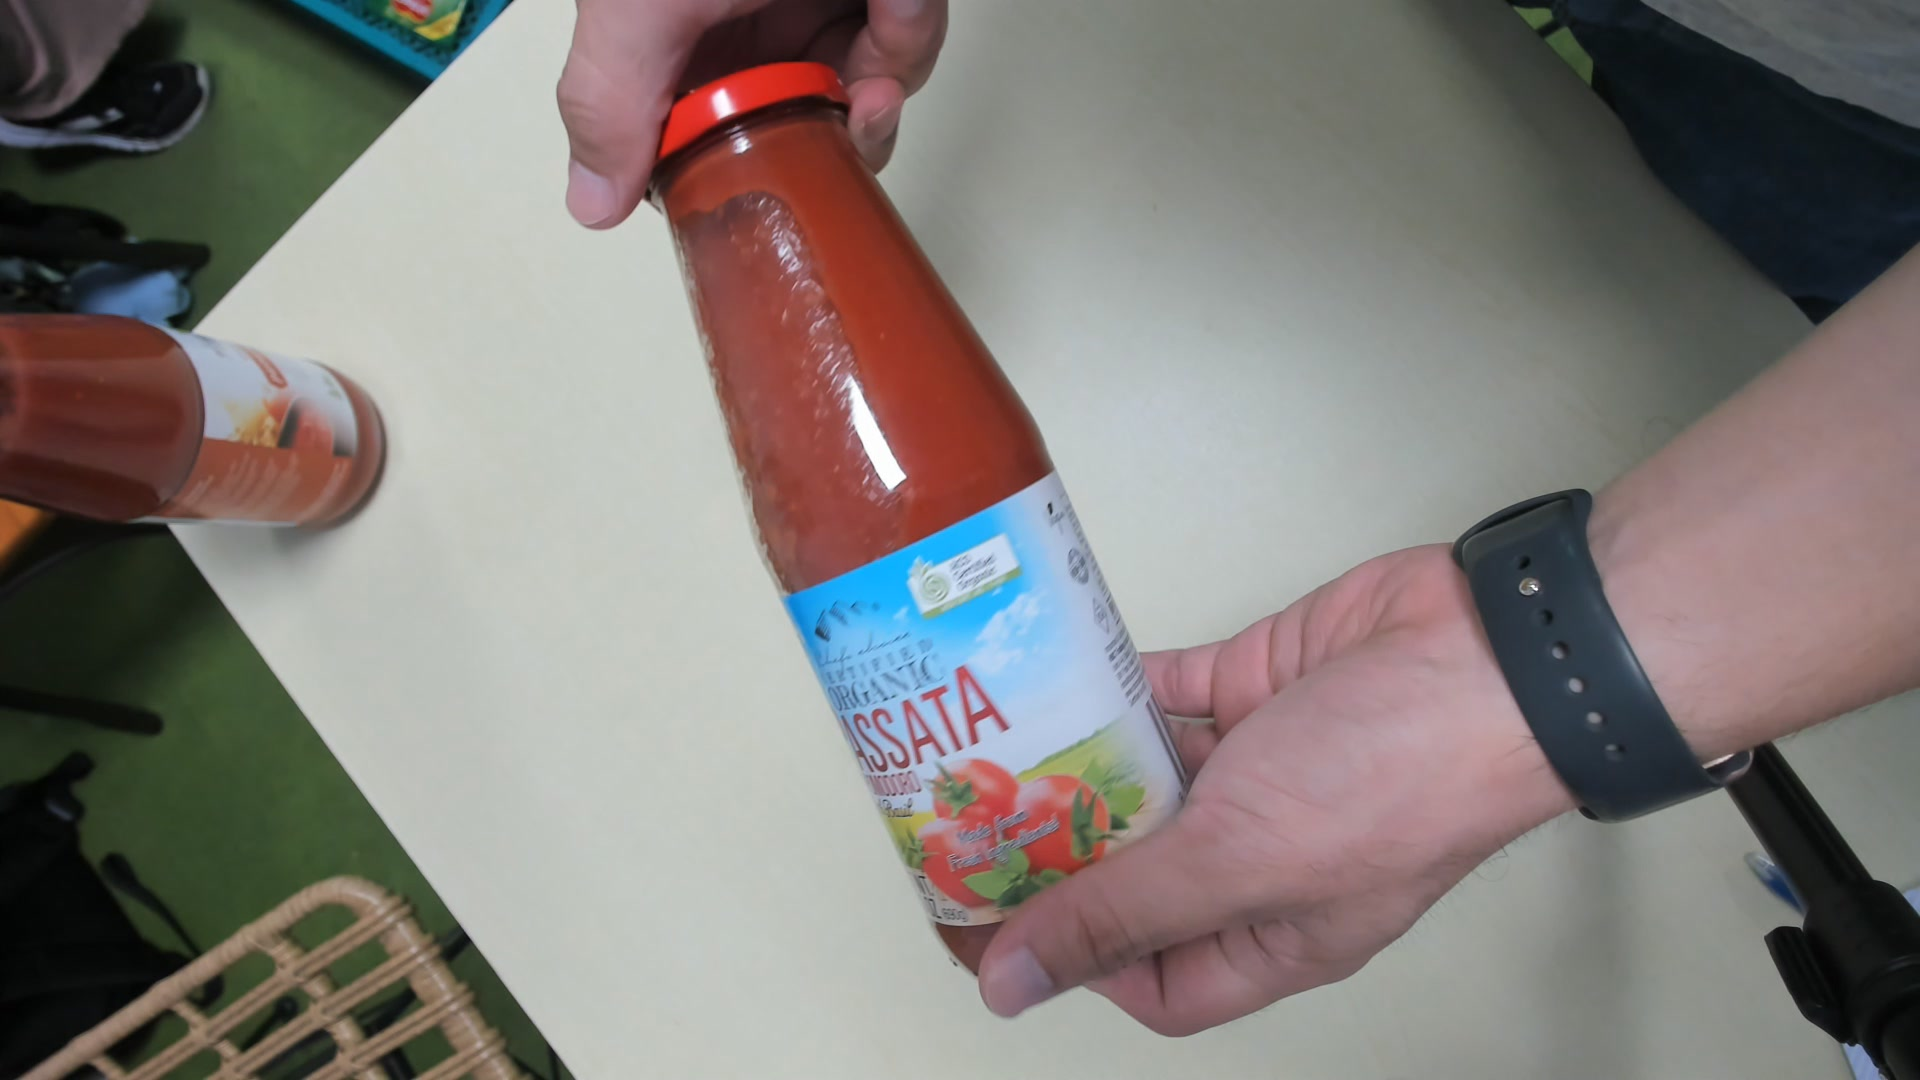PastaSauce_600-699g_NonHalal_NonHealthy: (636, 57, 1200, 971)
